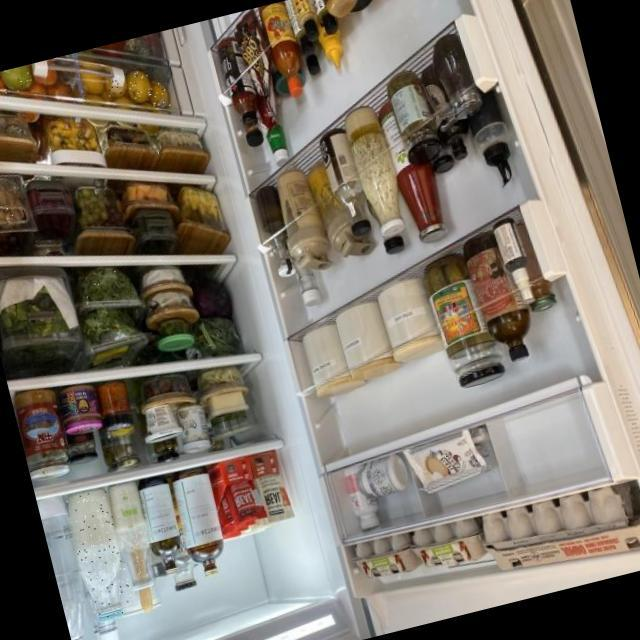Manzana: (0, 63, 32, 94)
